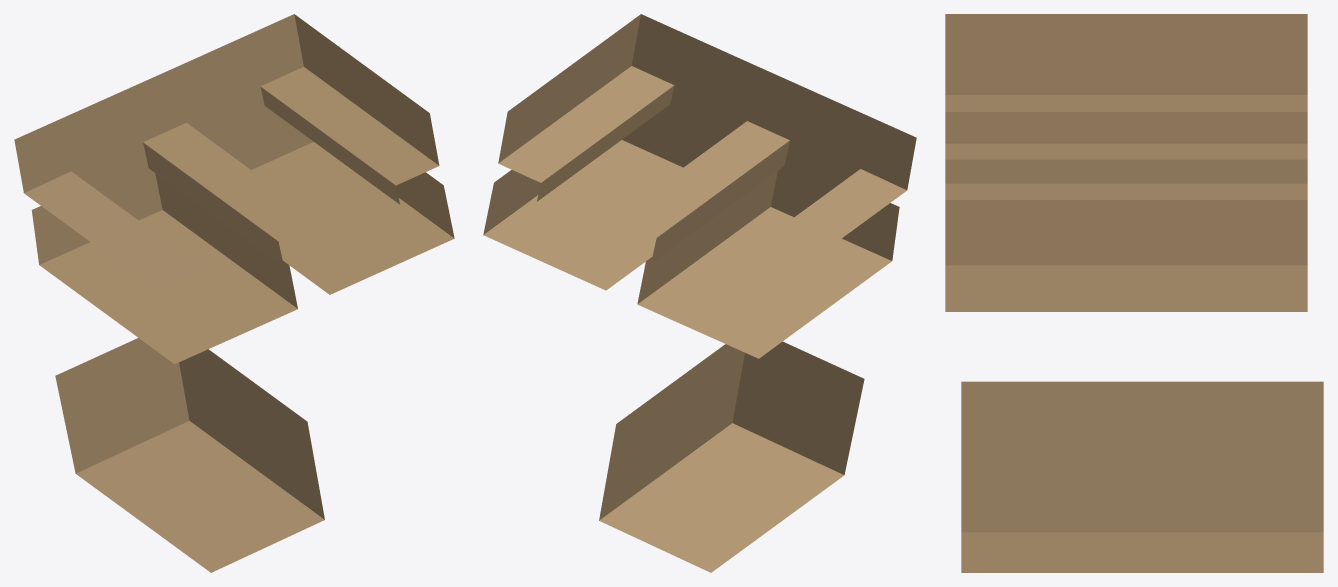
3 views of the same model, side by side, from view 1: azimuth 30°, elevation 25°; view 2: azimuth 150°, elevation 25°; view 3: azimuth 270°, elevation 25° (orthographic). The views are drawn at different scales.
Parts seen in each view (by area): view 1: 0_0_1_3_2_2_2_1_2; view 2: 0_0_1_3_2_2_2_1_2; view 3: 0_0_1_3_2_2_2_1_2.
Part boxes in pixels (box(x1,y1,x2,y2)): 0_0_1_3_2_2_2_1_2: box(14, 14, 454, 572); 0_0_1_3_2_2_2_1_2: box(483, 14, 916, 572); 0_0_1_3_2_2_2_1_2: box(945, 14, 1323, 572).
Bounding box in the file's own units: 35.05 × 45.31 × 28.2.
